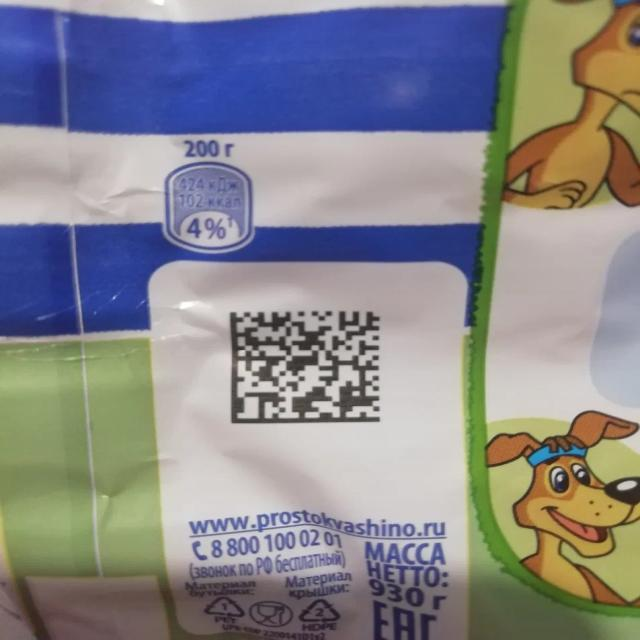datamatrix: (226, 308, 388, 428)
